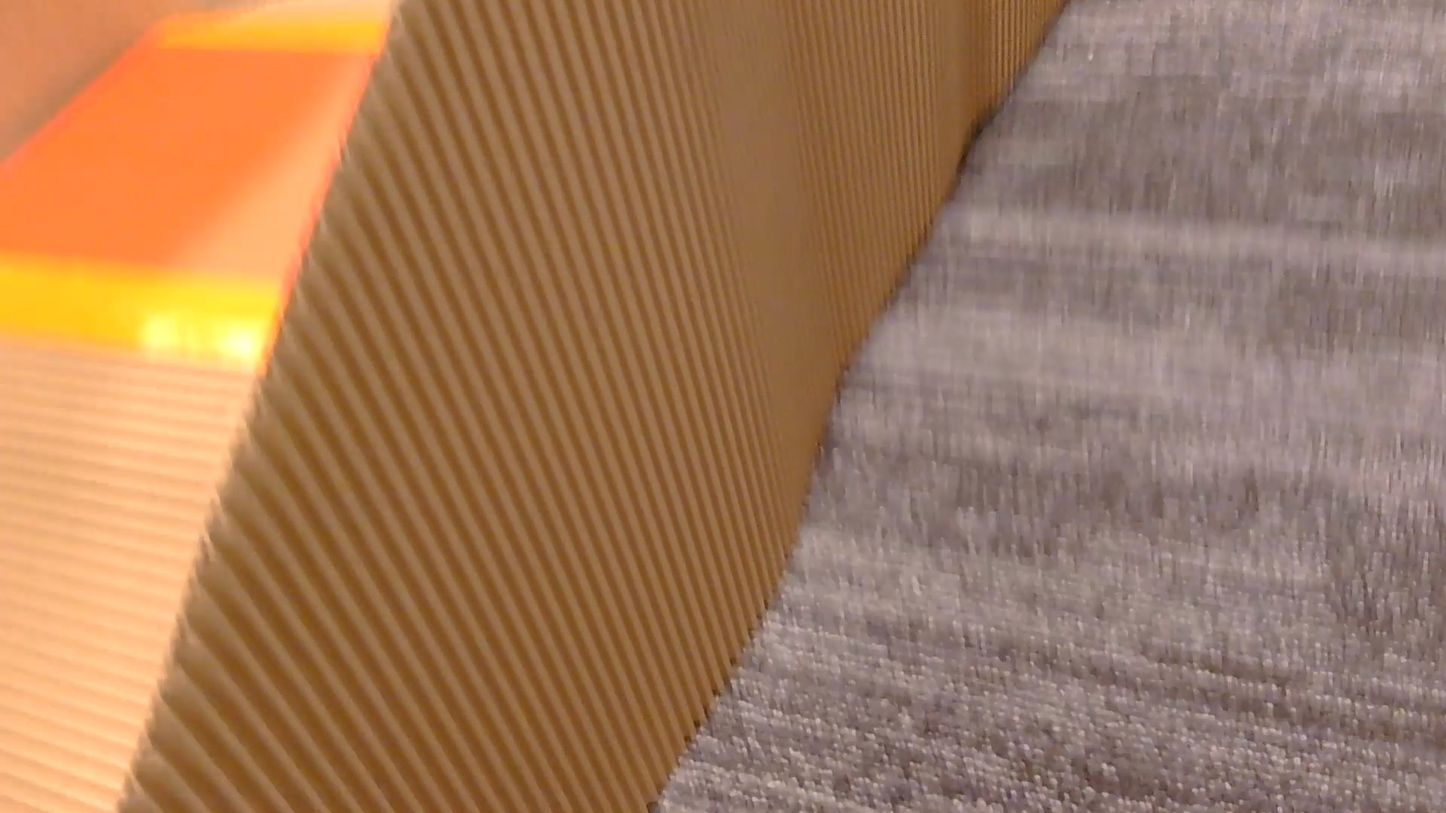Ramp: (0, 0, 1060, 812)
